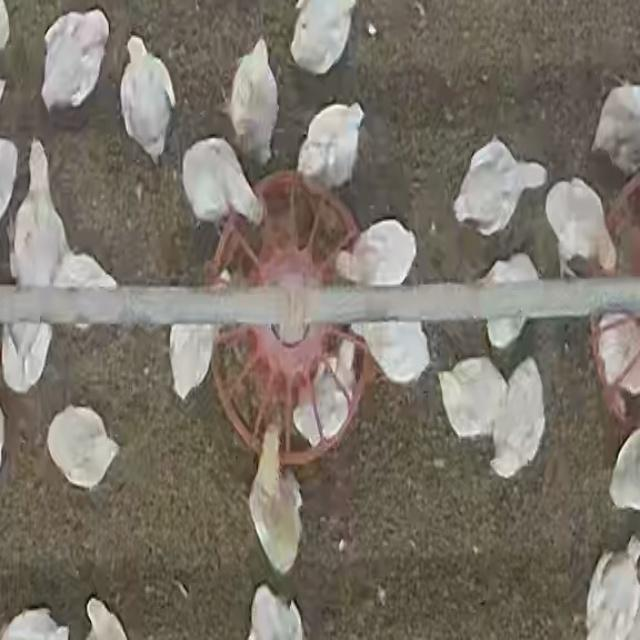chicken: (453, 139, 548, 238), (11, 137, 69, 292), (247, 425, 302, 579), (180, 136, 262, 239), (41, 10, 110, 121), (120, 33, 177, 164), (292, 339, 358, 451), (544, 179, 618, 277), (489, 356, 547, 478), (169, 274, 223, 404), (45, 404, 118, 491), (479, 254, 542, 352), (296, 103, 362, 194), (438, 356, 507, 443), (233, 40, 281, 165), (332, 219, 418, 287), (584, 534, 638, 638), (290, 1, 360, 77), (55, 252, 120, 330), (593, 81, 640, 176), (1, 320, 53, 398), (600, 303, 640, 396), (84, 598, 134, 640)
